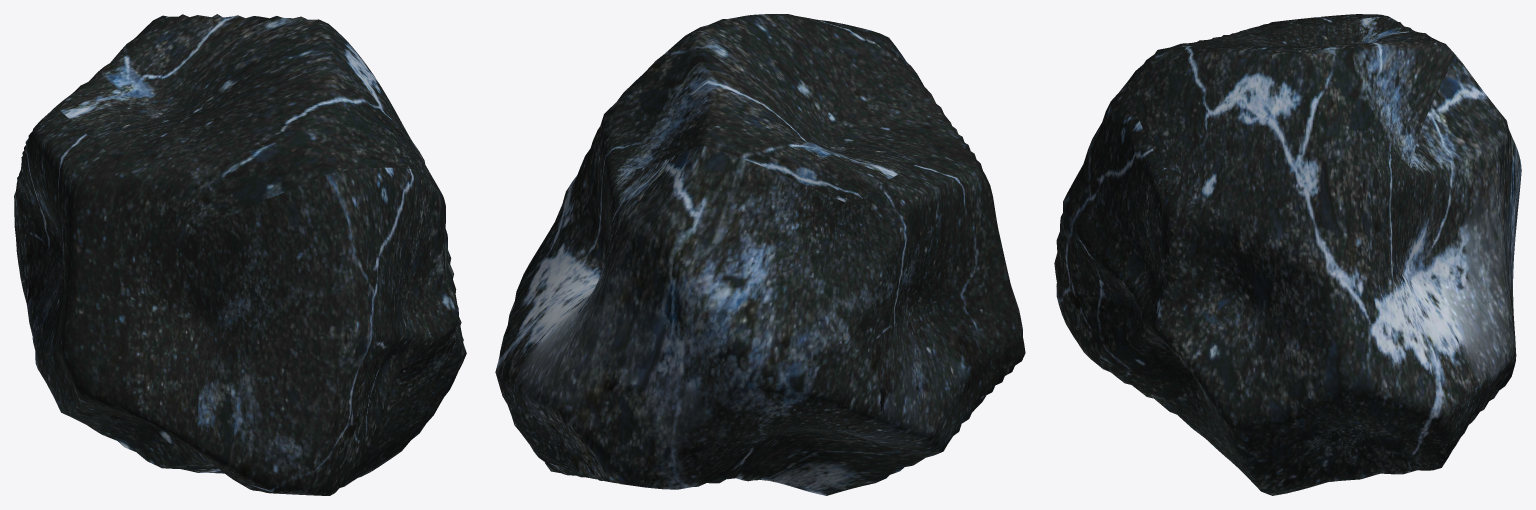
Rendered from marmore1.glb.
3 views of the same model, side by side, from view 1: azimuth 30°, elevation 25°; view 2: azimuth 150°, elevation 25°; view 3: azimuth 270°, elevation 25° (orthographic). The views are drawn at different scales.
Parts seen in each view (by area): view 1: Cube; view 2: Cube; view 3: Cube.
Part boxes in pixels (bbox=[...]): Cube: bbox=[14, 14, 466, 495]; Cube: bbox=[495, 14, 1025, 495]; Cube: bbox=[1054, 14, 1521, 495].
Size of the model in its own units: 2.85 by 2.76 by 2.79.
Materials: 1 (1 with a texture image).
